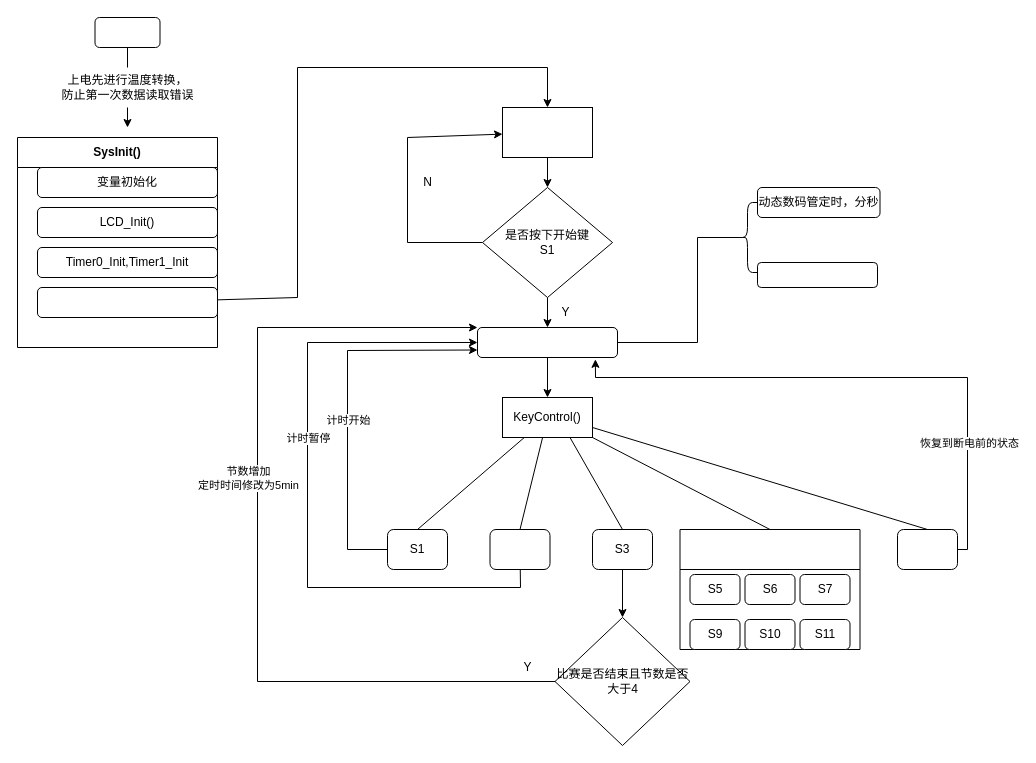
The diagram is 1036 pixels wide and 763 high, and some of its shapes have lost their labels. Each missing label, with the box of its shape:
LCD计分，节数 24s，温度: (756, 262, 878, 288)
S2: (489, 528, 550, 570)
S8: (896, 528, 958, 570)
T0停止计时: (36, 286, 218, 318)
上电: (94, 16, 160, 48)
加分按键: (679, 528, 860, 650)
定时计分界面更新显示: (476, 326, 618, 358)
欢迎界面: (502, 106, 592, 158)
